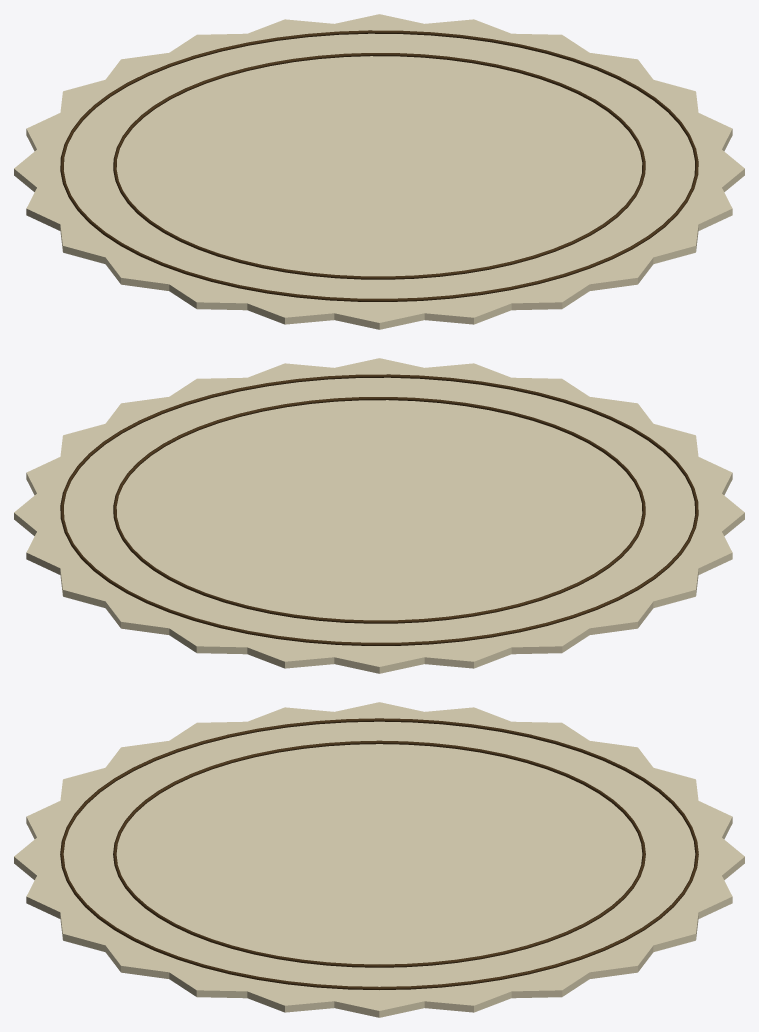
Rendered from Lace_Doily.fbx.
The picture shows the model from 3 angles, top to bottom: view 1: azimuth 30°, elevation 25°; view 2: azimuth 150°, elevation 25°; view 3: azimuth 270°, elevation 25°; orthographic projection.
Visible parts, largest first — view 1: Scalloped linen doily.001, Embroidered border.003, Embroidered border.002; view 2: Scalloped linen doily.001, Embroidered border.003, Embroidered border.002; view 3: Scalloped linen doily.001, Embroidered border.003, Embroidered border.002.
Part boxes in pixels (box(x1,y1,x2,y2)): Scalloped linen doily.001: box(14, 14, 744, 329); Embroidered border.003: box(60, 30, 698, 301); Embroidered border.002: box(113, 53, 645, 279); Scalloped linen doily.001: box(14, 358, 744, 673); Embroidered border.003: box(60, 374, 698, 645); Embroidered border.002: box(113, 397, 645, 623); Scalloped linen doily.001: box(14, 702, 744, 1017); Embroidered border.003: box(60, 718, 698, 989); Embroidered border.002: box(113, 740, 645, 967).
Size of the model in its own units: 0.29 by 0.0047 by 0.29.
